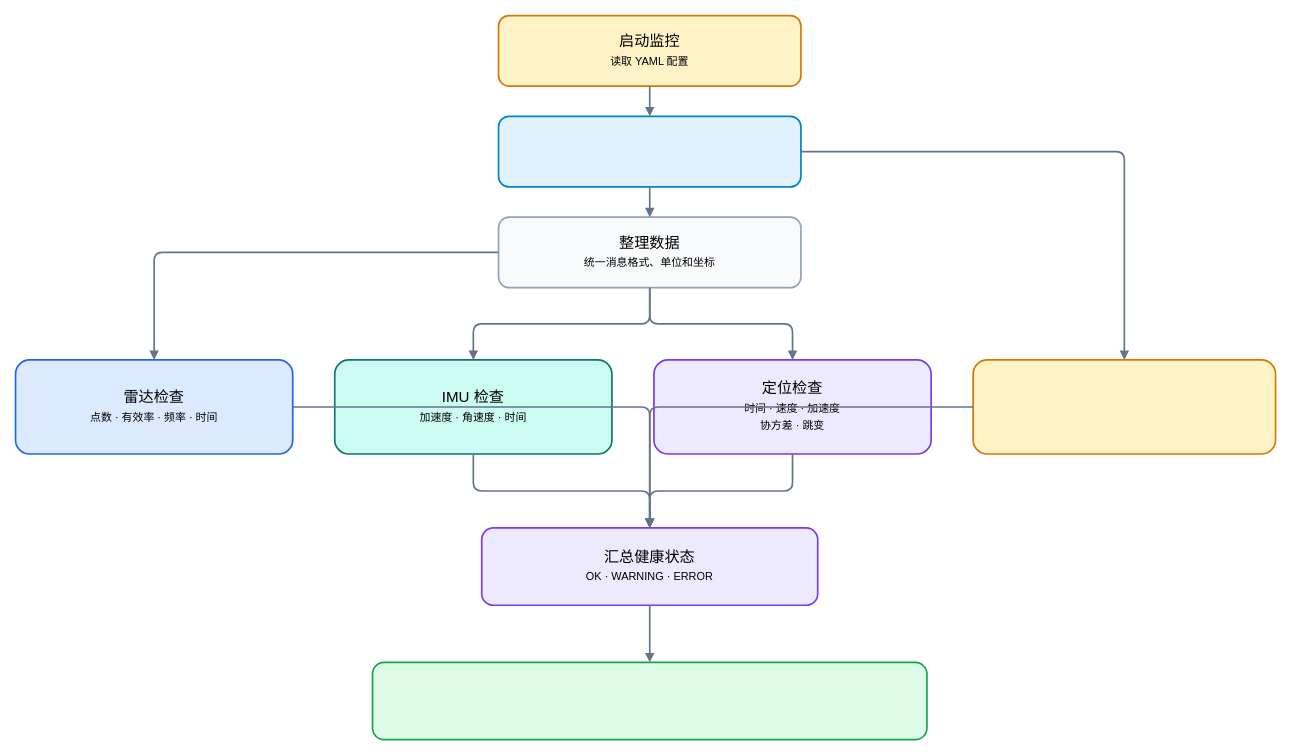
This 1290x754 diagram has some shape labels left out. Here are the shapes that lost their labels. From the top down, the centre of each, then its label:
At (x=649, y=151): "接收数据 雷达 · IMU · 定位".
At (x=1124, y=406): "时间探针 持续计算距上次收到数据多久".
At (x=649, y=700): "实时显示并保存记录 RViz 面板 · ROS 诊断 · JSONL 事件 · CSV 指标".
